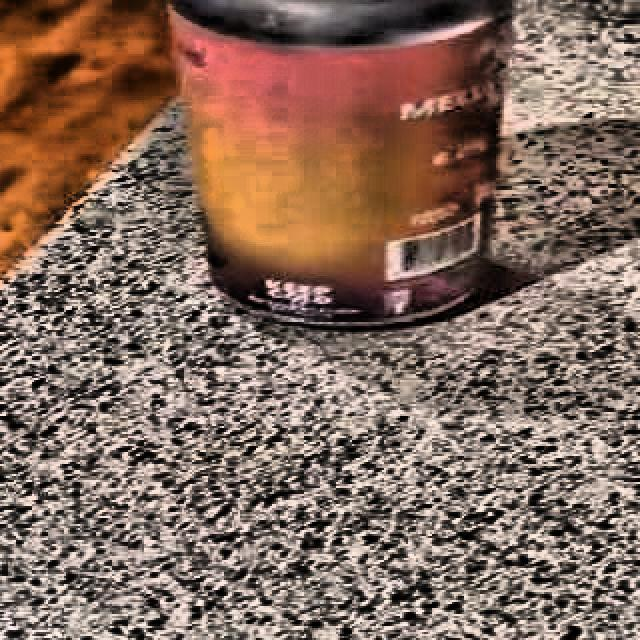metal: (164, 0, 522, 340)
